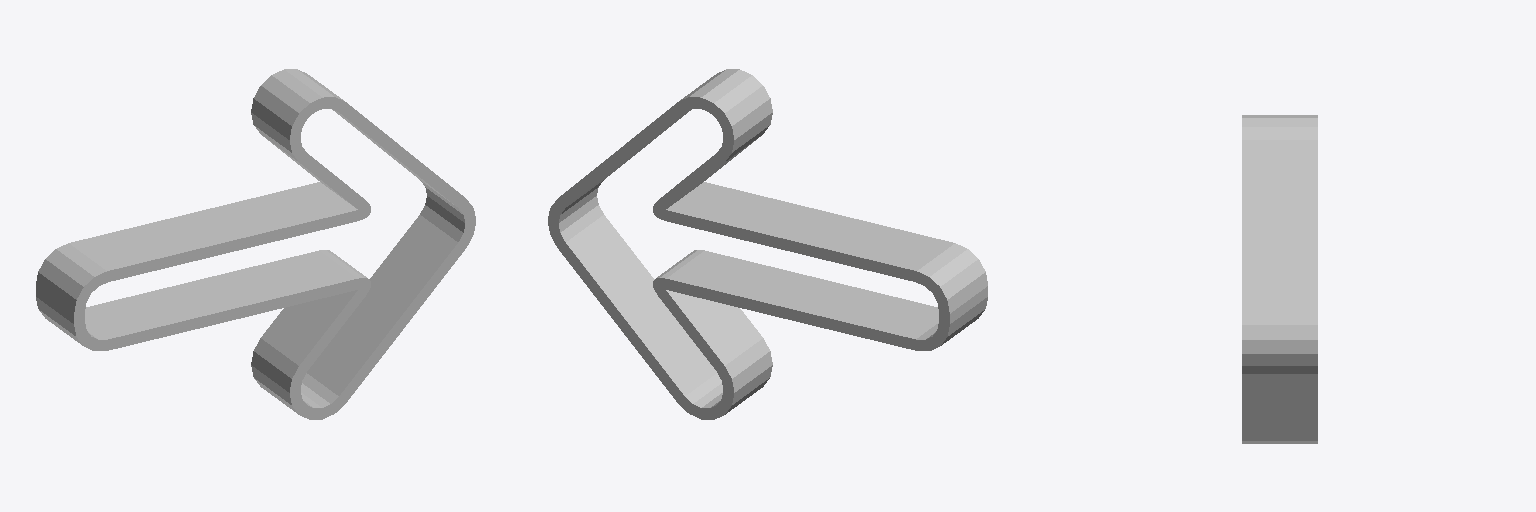
Rendered from Arrow_29.obj.
3 renders of one model, left to right at view 1: azimuth 30°, elevation 25°; view 2: azimuth 150°, elevation 25°; view 3: azimuth 270°, elevation 25°, orthographic.
Visible parts, largest first — view 1: Arrow_29; view 2: Arrow_29; view 3: Arrow_29.
Boxes of the visible parts, x1,y1,x2,y2 form: Arrow_29: [36, 69, 475, 419]; Arrow_29: [548, 69, 987, 419]; Arrow_29: [1242, 115, 1317, 443].
Bounding box in the file's own units: 5.14 × 3.93 × 0.852.